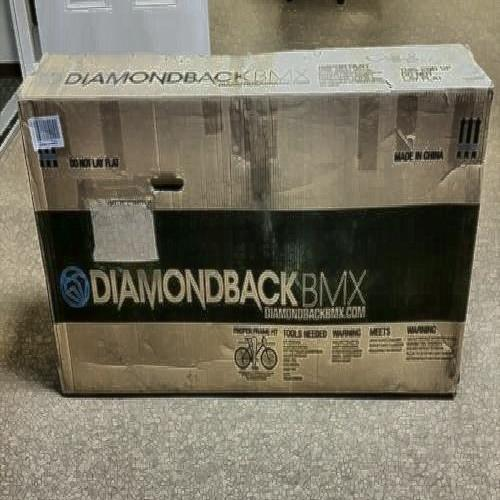bicycle: (32, 68, 478, 409)
